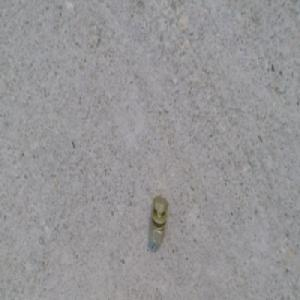BoltNutSet: (151, 195, 169, 242)
